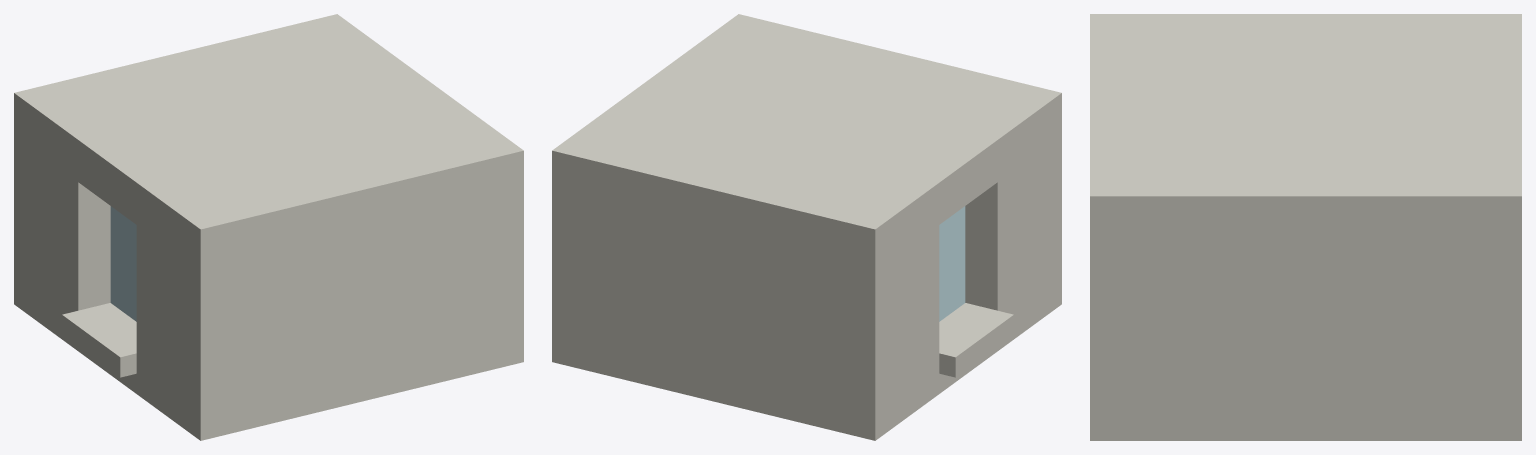
Rendered from building_046.glb.
3 views of the same model, side by side, from view 1: azimuth 30°, elevation 25°; view 2: azimuth 150°, elevation 25°; view 3: azimuth 270°, elevation 25° (orthographic). The views are drawn at different scales.
Visible parts, largest first — view 1: building_046; view 2: building_046; view 3: building_046.
Boxes of the visible parts, x1,y1,x2,y2 form: building_046: (14,14,523,440); building_046: (552,14,1061,440); building_046: (1090,14,1521,440).
Size of the model in its own units: 1.05 by 0.625 by 1.
